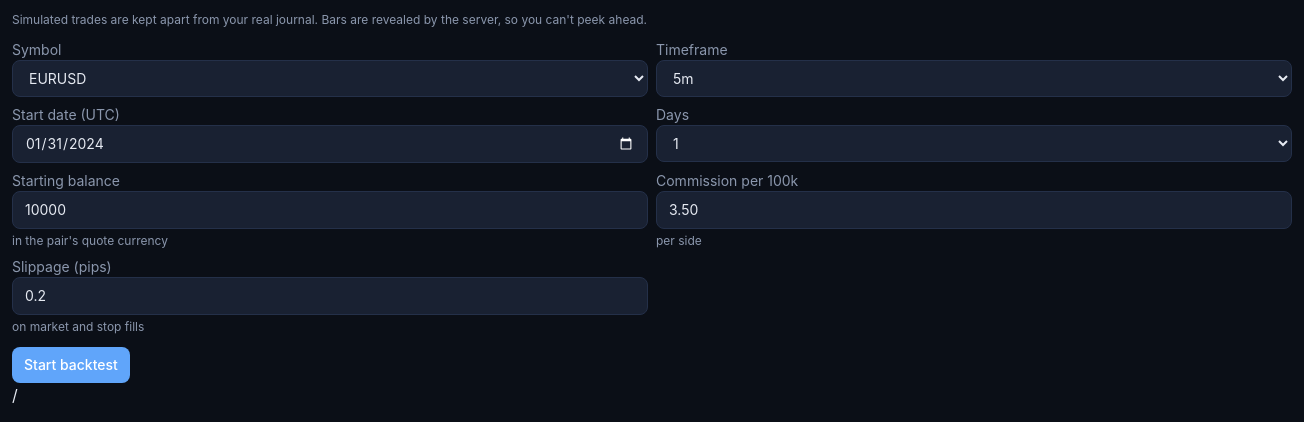
Test: new backtest form › rejects a bad balance and posts the chosen window
Replace the text in the field labelled "Starting balance in the pair's quote currency" with "-5" at point(330, 210), box [12,191,648,229]
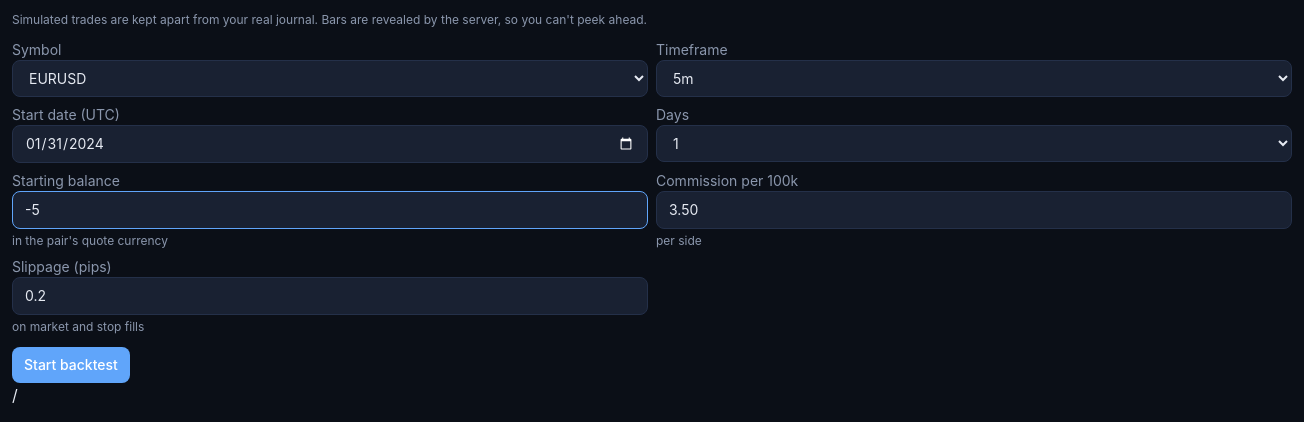
Click the button "Start backtest" at point(71, 365), box [12,347,130,383]
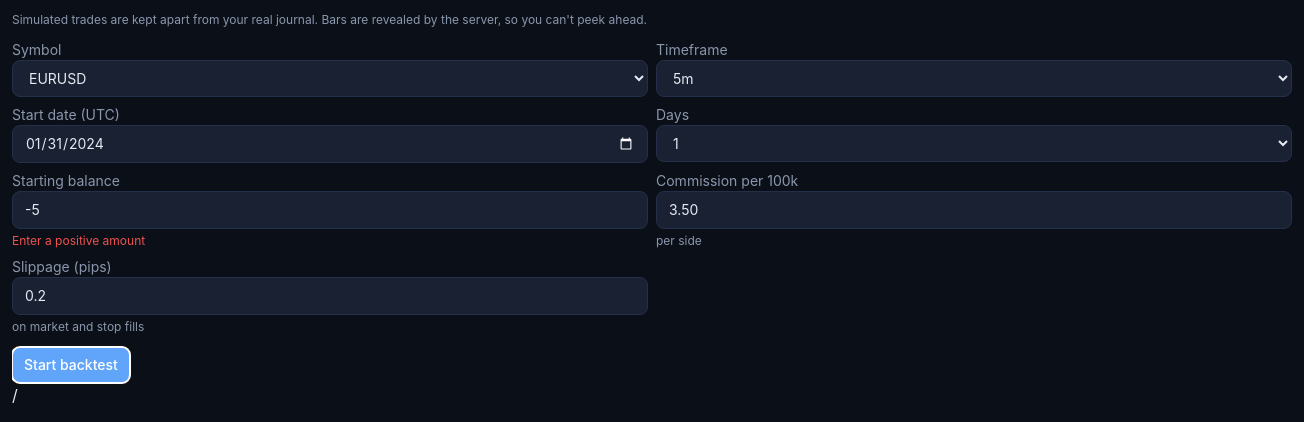
expect the form named "New backtest" shows "Enter a positive amount": met, box [12,233,145,248]
Replace the text in the field labelled "Starting balance Enter a positive amount" with "5000" at point(330, 210), box [12,191,648,229]
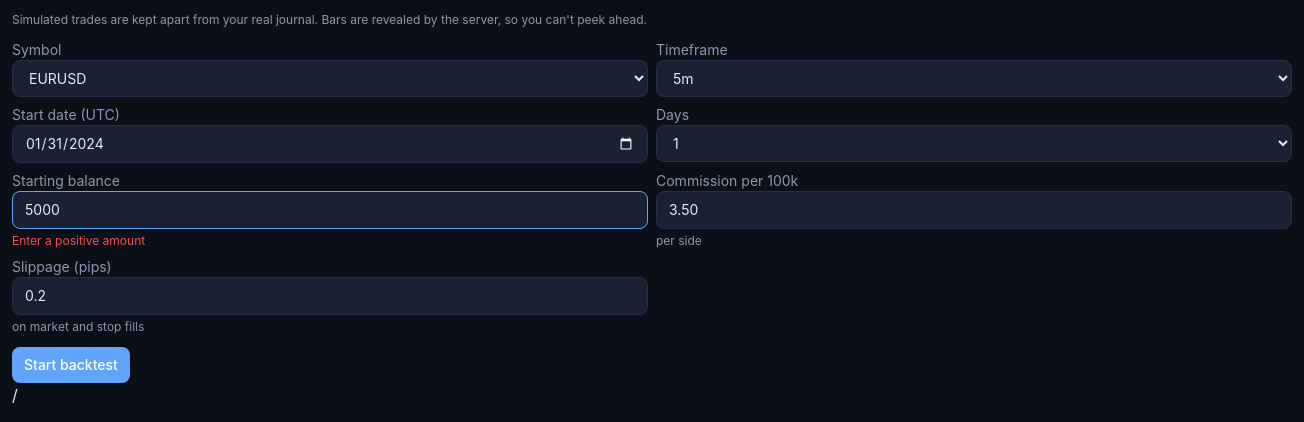
Select "GBPUSD" in the dropdown labelled "Symbol" at point(330, 78), box [12,60,648,97]
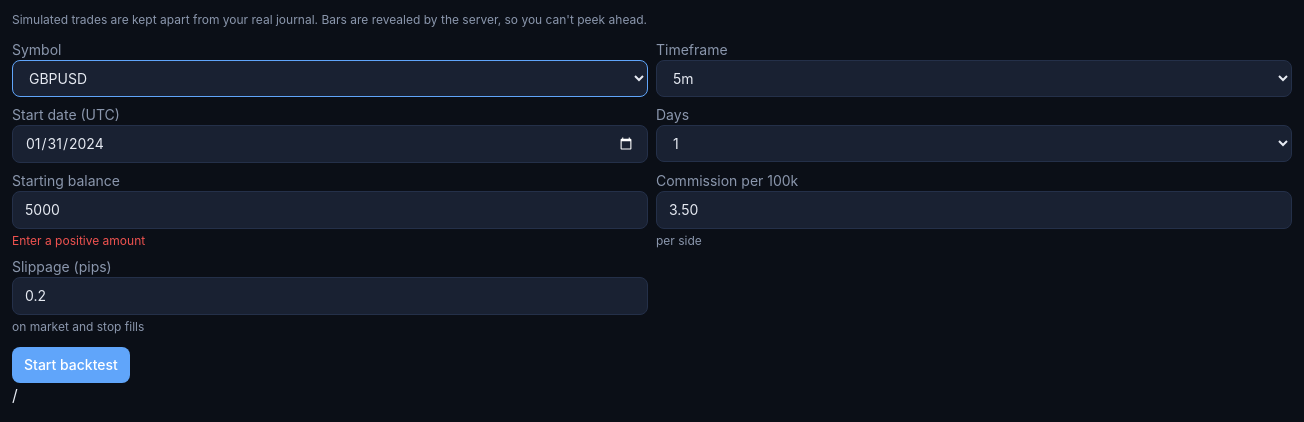
Click the button "Start backtest" at point(71, 365), box [12,347,130,383]
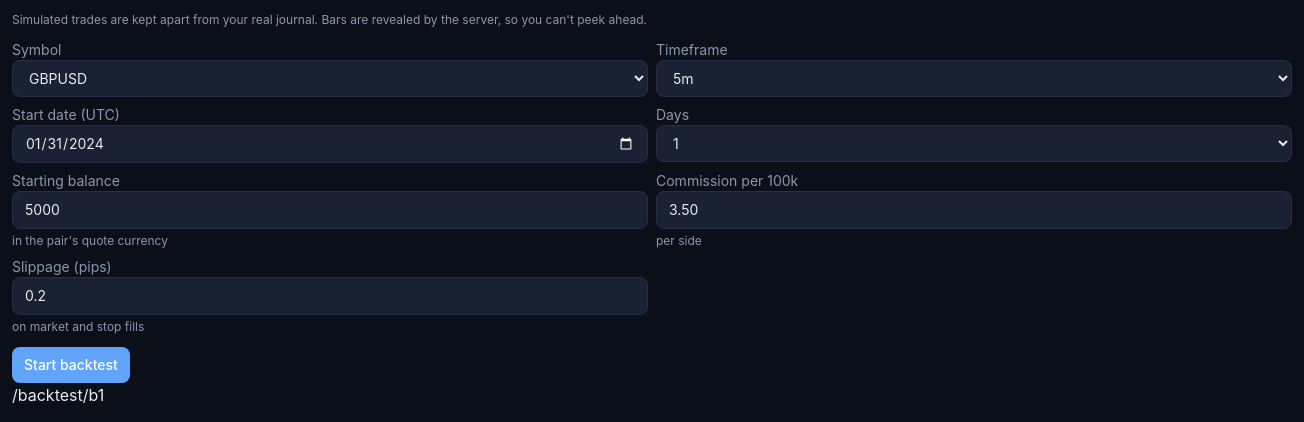
expect the text with test id "location" reads "/backtest/b1": met, box [12,385,104,405]
